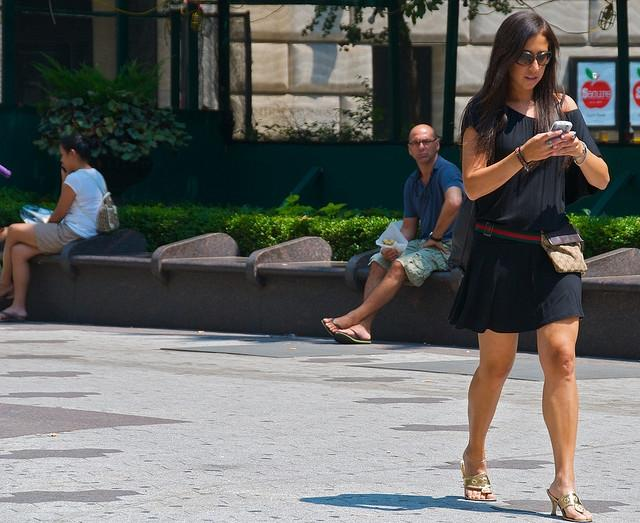apple: (581, 67, 612, 108), (633, 66, 640, 107)
